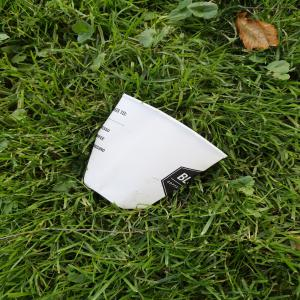Cup: (81, 92, 233, 214)
